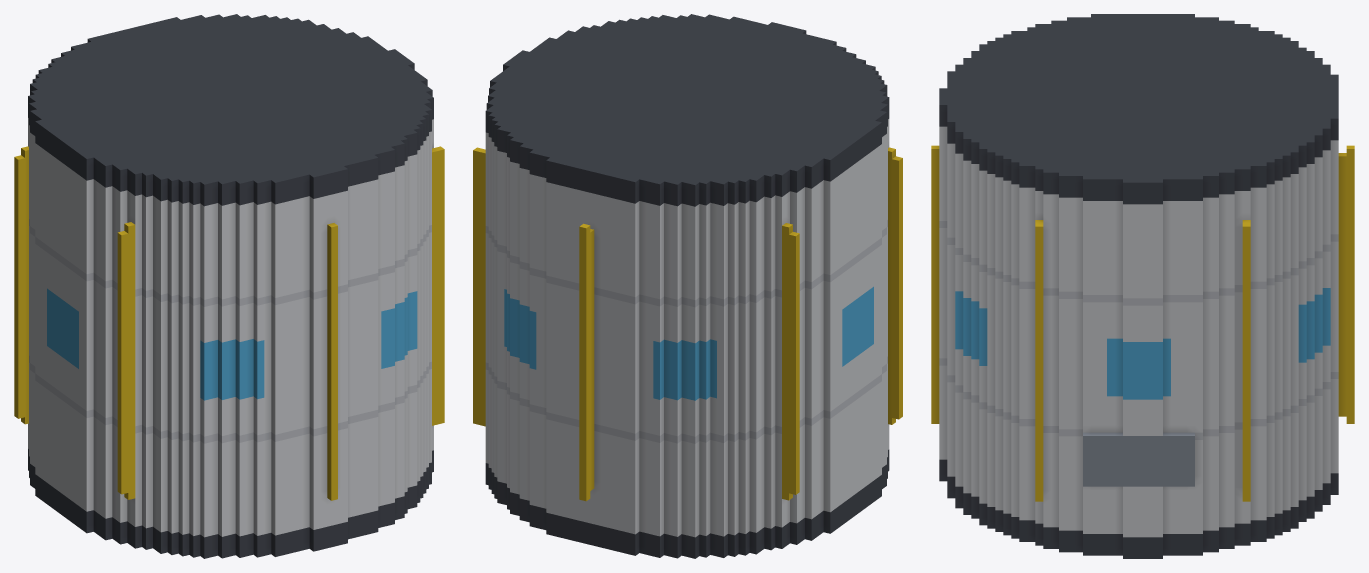
File: crew_cabin_m.glb
3 renders of one model, left to right at view 1: azimuth 30°, elevation 25°; view 2: azimuth 150°, elevation 25°; view 3: azimuth 270°, elevation 25°, orthographic.
Parts seen in each view (by area): view 1: crew_cabin_m; view 2: crew_cabin_m; view 3: crew_cabin_m.
Part boxes in pixels (x1,y1,x2,y2): crew_cabin_m: (14, 14, 444, 558); crew_cabin_m: (473, 14, 902, 558); crew_cabin_m: (931, 14, 1354, 558).
Size of the model in its own units: 2.5 by 2.6 by 2.65.
